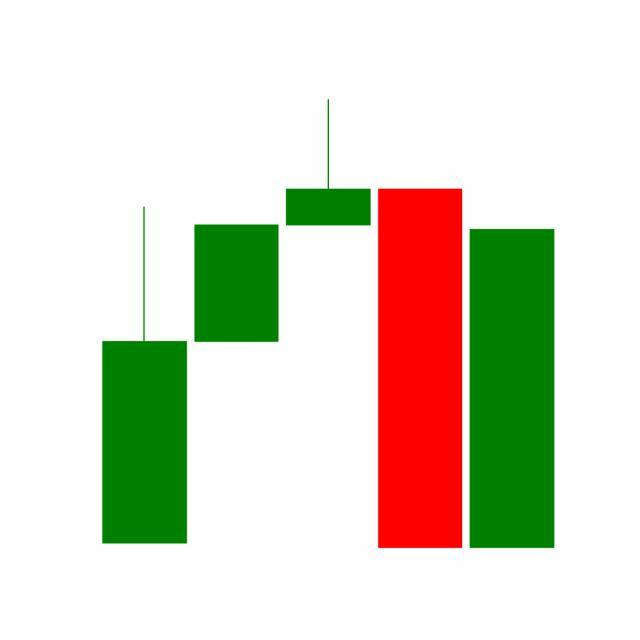Marubozu: (374, 185, 468, 553)
